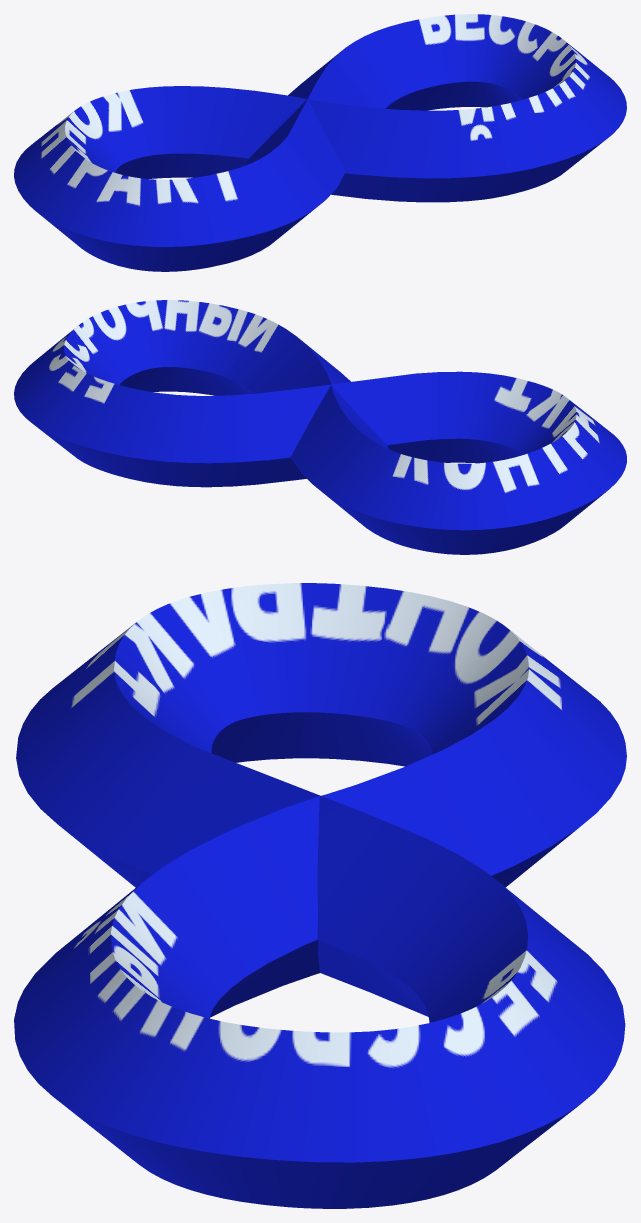
File: inf.fbx
3 views of the same model, one above another, from view 1: azimuth 30°, elevation 25°; view 2: azimuth 150°, elevation 25°; view 3: azimuth 270°, elevation 25° (orthographic). The views are drawn at different scales.
Parts seen in each view (by area): view 1: Sweep; view 2: Sweep; view 3: Sweep.
Boxes of the visible parts, left/top/right/bottom form: Sweep: left=14, top=14, right=626, bottom=271; Sweep: left=14, top=300, right=626, bottom=554; Sweep: left=14, top=583, right=626, bottom=1208.
Bounding box in the file's own units: 605 × 95.23 × 295.
Materials: 1 (1 with a texture image).
